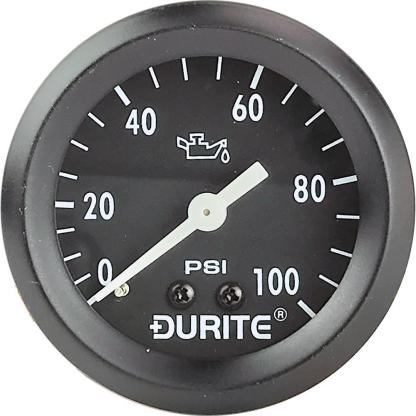needle: (93, 216, 198, 304)
